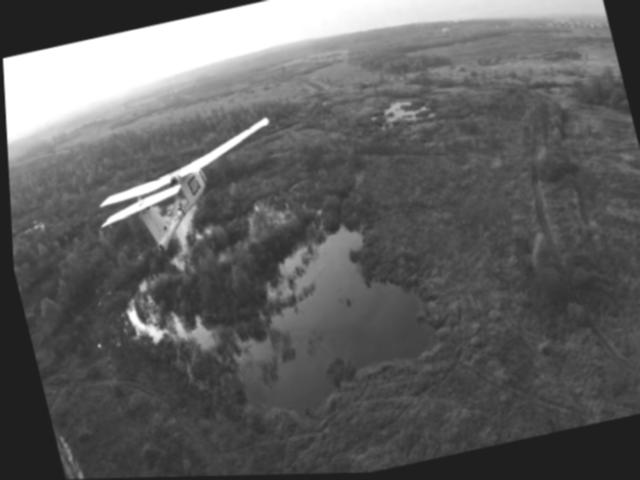hedef: (86, 98, 300, 268)
